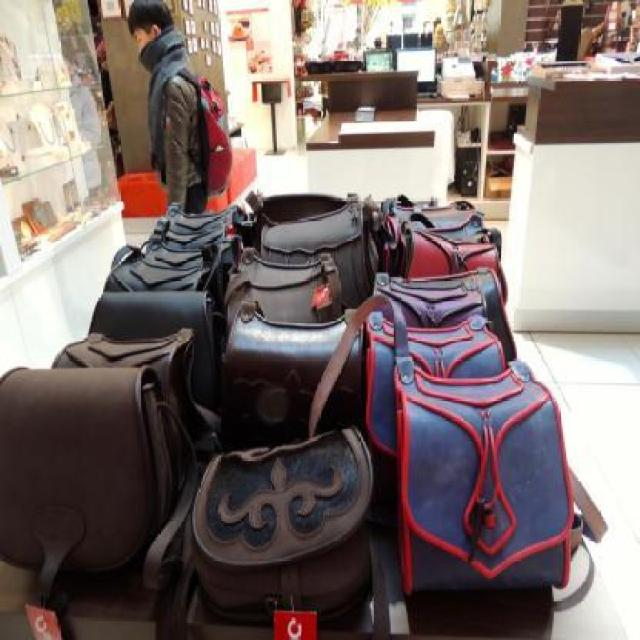backpack: (386, 364, 583, 608), (189, 422, 377, 626), (213, 299, 364, 426)
